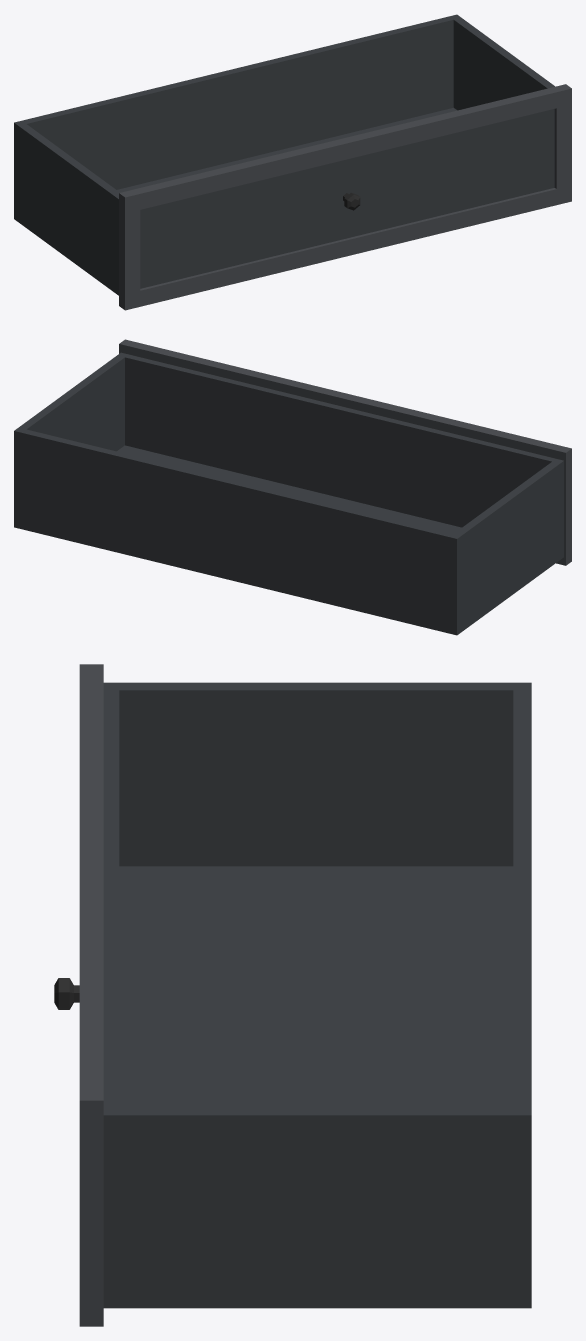
Rendered from Dresser4_C3_02.fbx.
3 views of the same model, one above another, from view 1: azimuth 30°, elevation 25°; view 2: azimuth 150°, elevation 25°; view 3: azimuth 270°, elevation 25° (orthographic). The views are drawn at different scales.
Parts seen in each view (by area): view 1: Dresser4_C3_02; view 2: Dresser4_C3_02; view 3: Dresser4_C3_02.
Part boxes in pixels (left/top/right/bottom): Dresser4_C3_02: left=14, top=14, right=571, bottom=310; Dresser4_C3_02: left=14, top=339, right=571, bottom=635; Dresser4_C3_02: left=54, top=664, right=531, bottom=1326.
Bounding box in the file's own units: 85.7 × 20.7 × 39.65.
